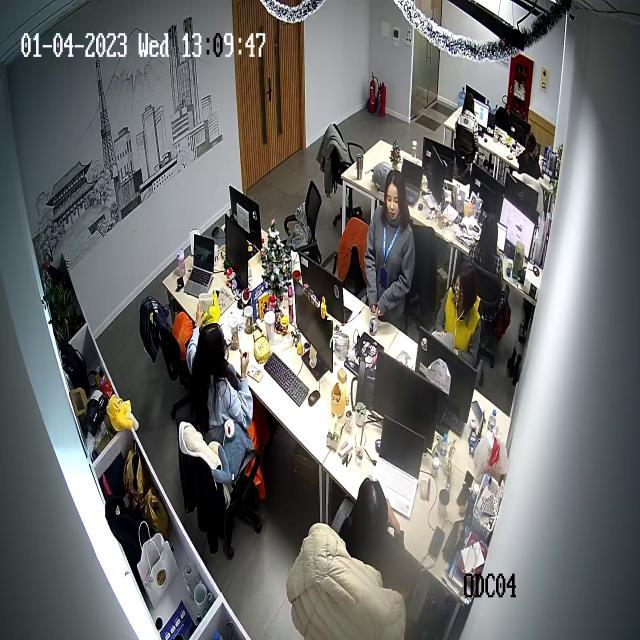person: (189, 320, 262, 497), (365, 167, 416, 333), (338, 476, 410, 588), (433, 263, 482, 357), (468, 214, 504, 276), (516, 130, 542, 183), (455, 90, 479, 138)
